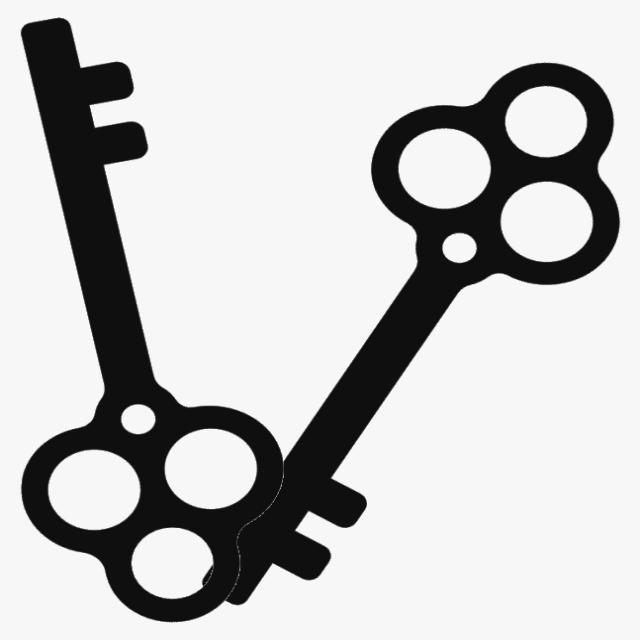key: (191, 52, 628, 612), (17, 8, 300, 628)
